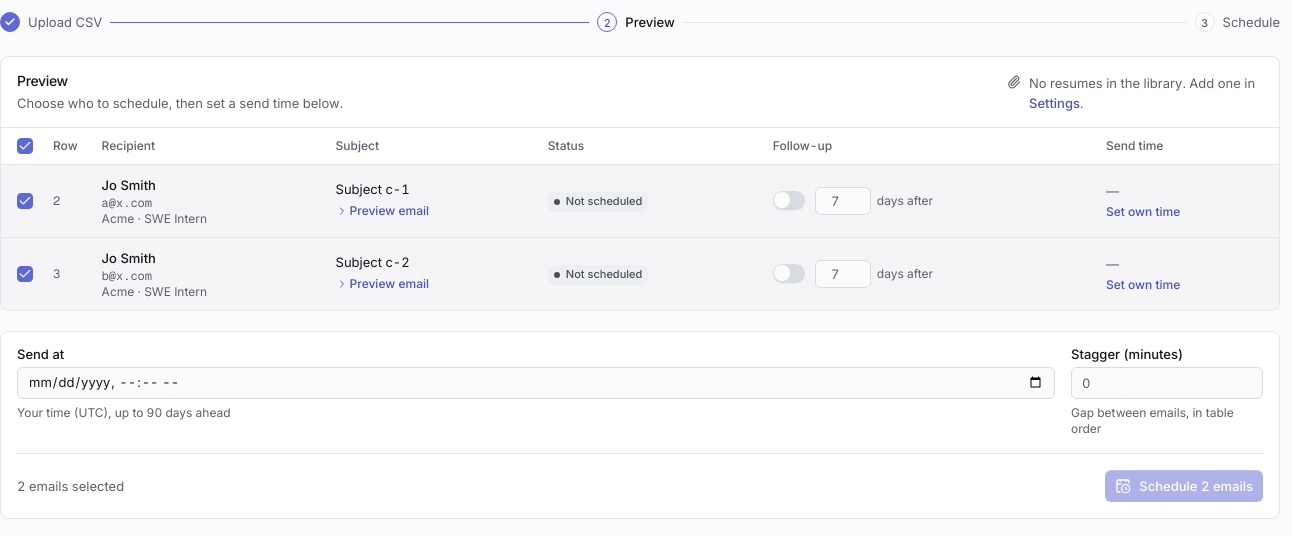
Test: BatchScheduler › explains a past time even before any row is selected
The image size is (1292, 536).
Click the checkbox named "select all". click: (25, 146)
box: [17,138,33,154]
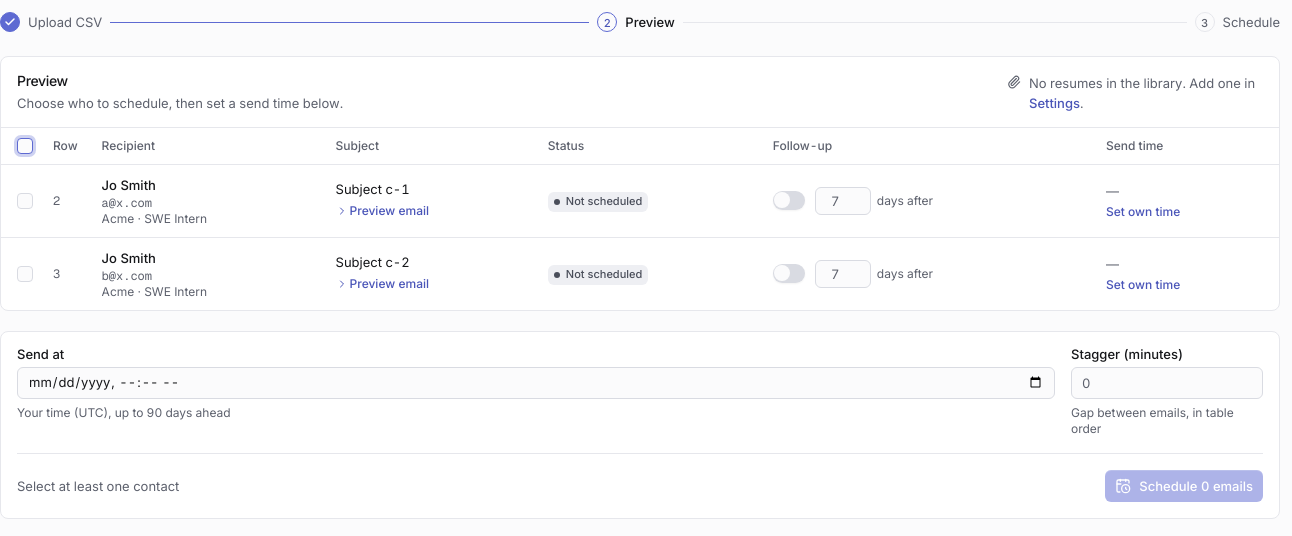
Type "2020-01-01T09:00" into the field labelled "Send at". click: (536, 382)
box: [17,366,1055,398]
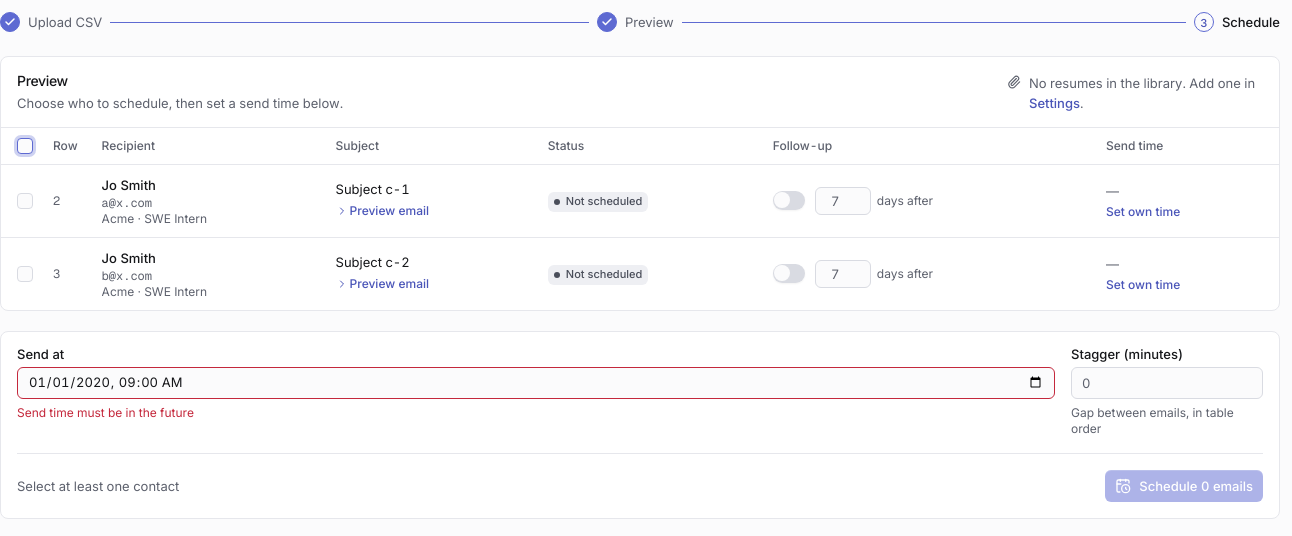
Result: the text "Send time must be in the future" is shown at [17,404,194,420]
